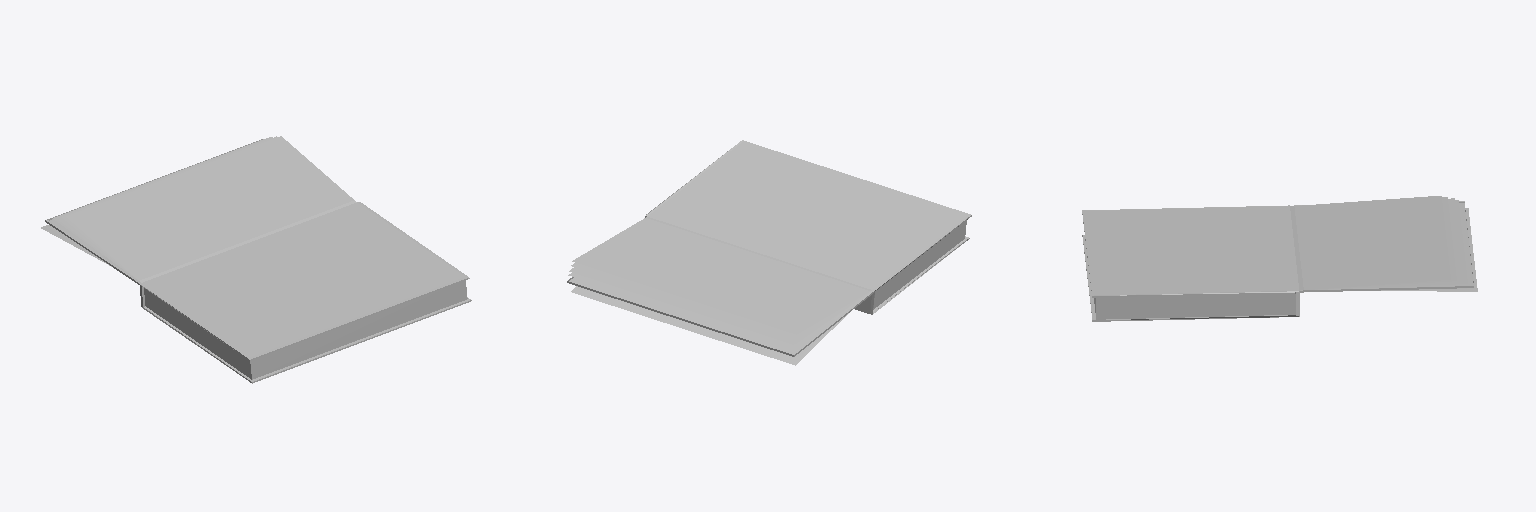
The model's file is BookThree.obj.
3 renders of one model, left to right at view 1: azimuth 30°, elevation 25°; view 2: azimuth 150°, elevation 25°; view 3: azimuth 270°, elevation 25°, orthographic.
Visible parts, largest first — view 1: Cube; view 2: Cube; view 3: Cube.
Boxes of the visible parts, <box> form: Cube: <box>41,136,471,383</box>; Cube: <box>567,140,971,365</box>; Cube: <box>1082,196,1477,321</box>.
Size of the model in its own units: 0.5881 by 0.1398 by 0.827.